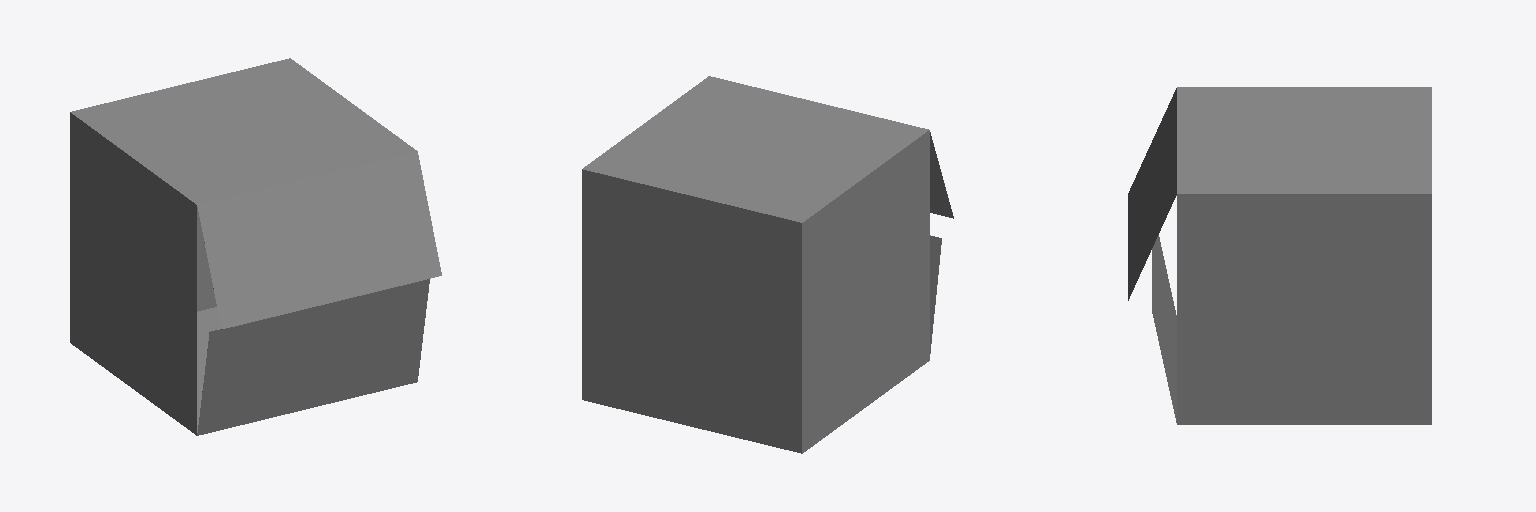
File: cardboardBox.obj
3 views of the same model, side by side, from view 1: azimuth 30°, elevation 25°; view 2: azimuth 150°, elevation 25°; view 3: azimuth 270°, elevation 25° (orthographic).
Parts seen in each view (by area): view 1: 1; view 2: 1; view 3: 1.
Boxes of the visible parts, x1=… form: 1: x1=70, y1=58, x2=441, y2=435; 1: x1=582, y1=76, x2=953, y2=453; 1: x1=1128, y1=87, x2=1431, y2=424.
Bounding box in the file's own units: 0.9833 × 0.9833 × 1.17.